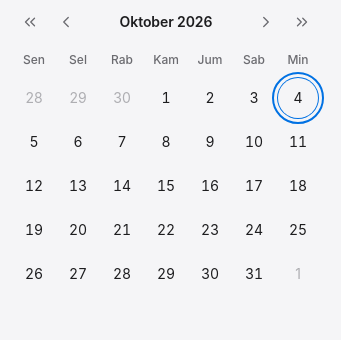
Test: Calendar: staying usable while it is open › moves focus back to a day when the nav button being pressed becomes disabled at the edge
The image size is (341, 340).
Click the button named "Bulan berikutnya" at point(266, 22), box [248,4,284,40]
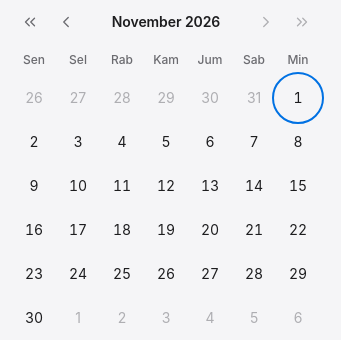
Now the heading "November 2026" is shown, box [112,12,220,32]
